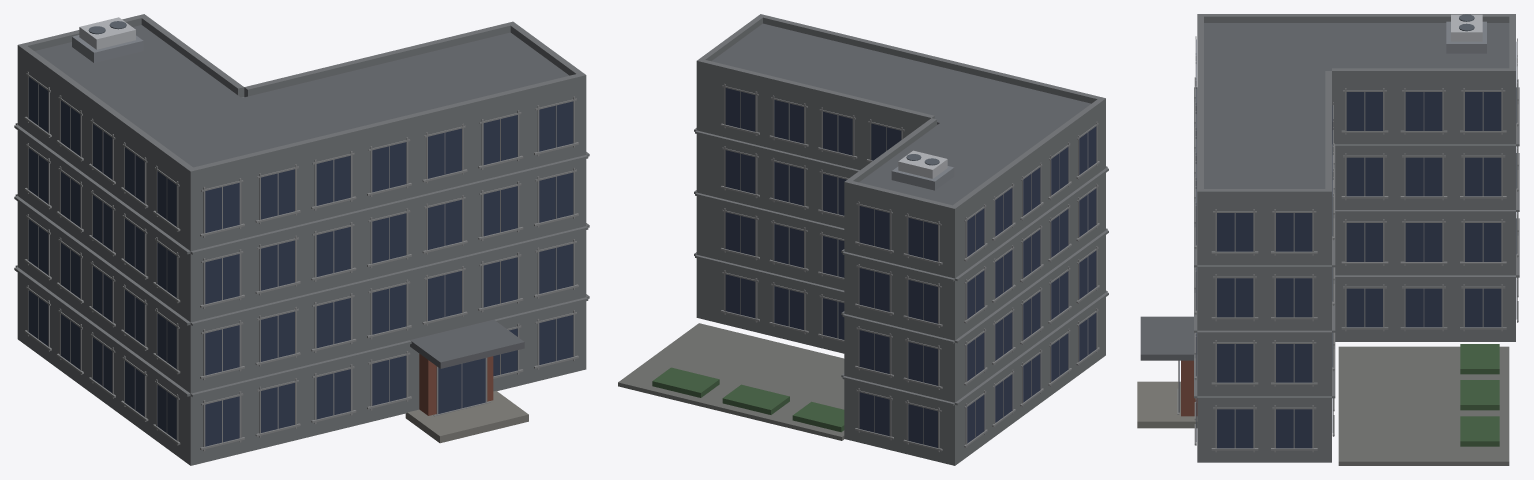
File: civic_corner_07x03_lvl1.glb
3 views of the same model, side by side, from view 1: azimuth 30°, elevation 25°; view 2: azimuth 150°, elevation 25°; view 3: azimuth 270°, elevation 25° (orthographic). The views are drawn at different scales.
Parts seen in each view (by area): view 1: civic_corner_07x03; view 2: civic_corner_07x03; view 3: civic_corner_07x03.
Boxes of the visible parts, <box> form: civic_corner_07x03: <box>14,14,589,465</box>; civic_corner_07x03: <box>618,14,1108,465</box>; civic_corner_07x03: <box>1137,14,1519,465</box>.
Size of the model in its own units: 1 by 0.7667 by 0.8935.
